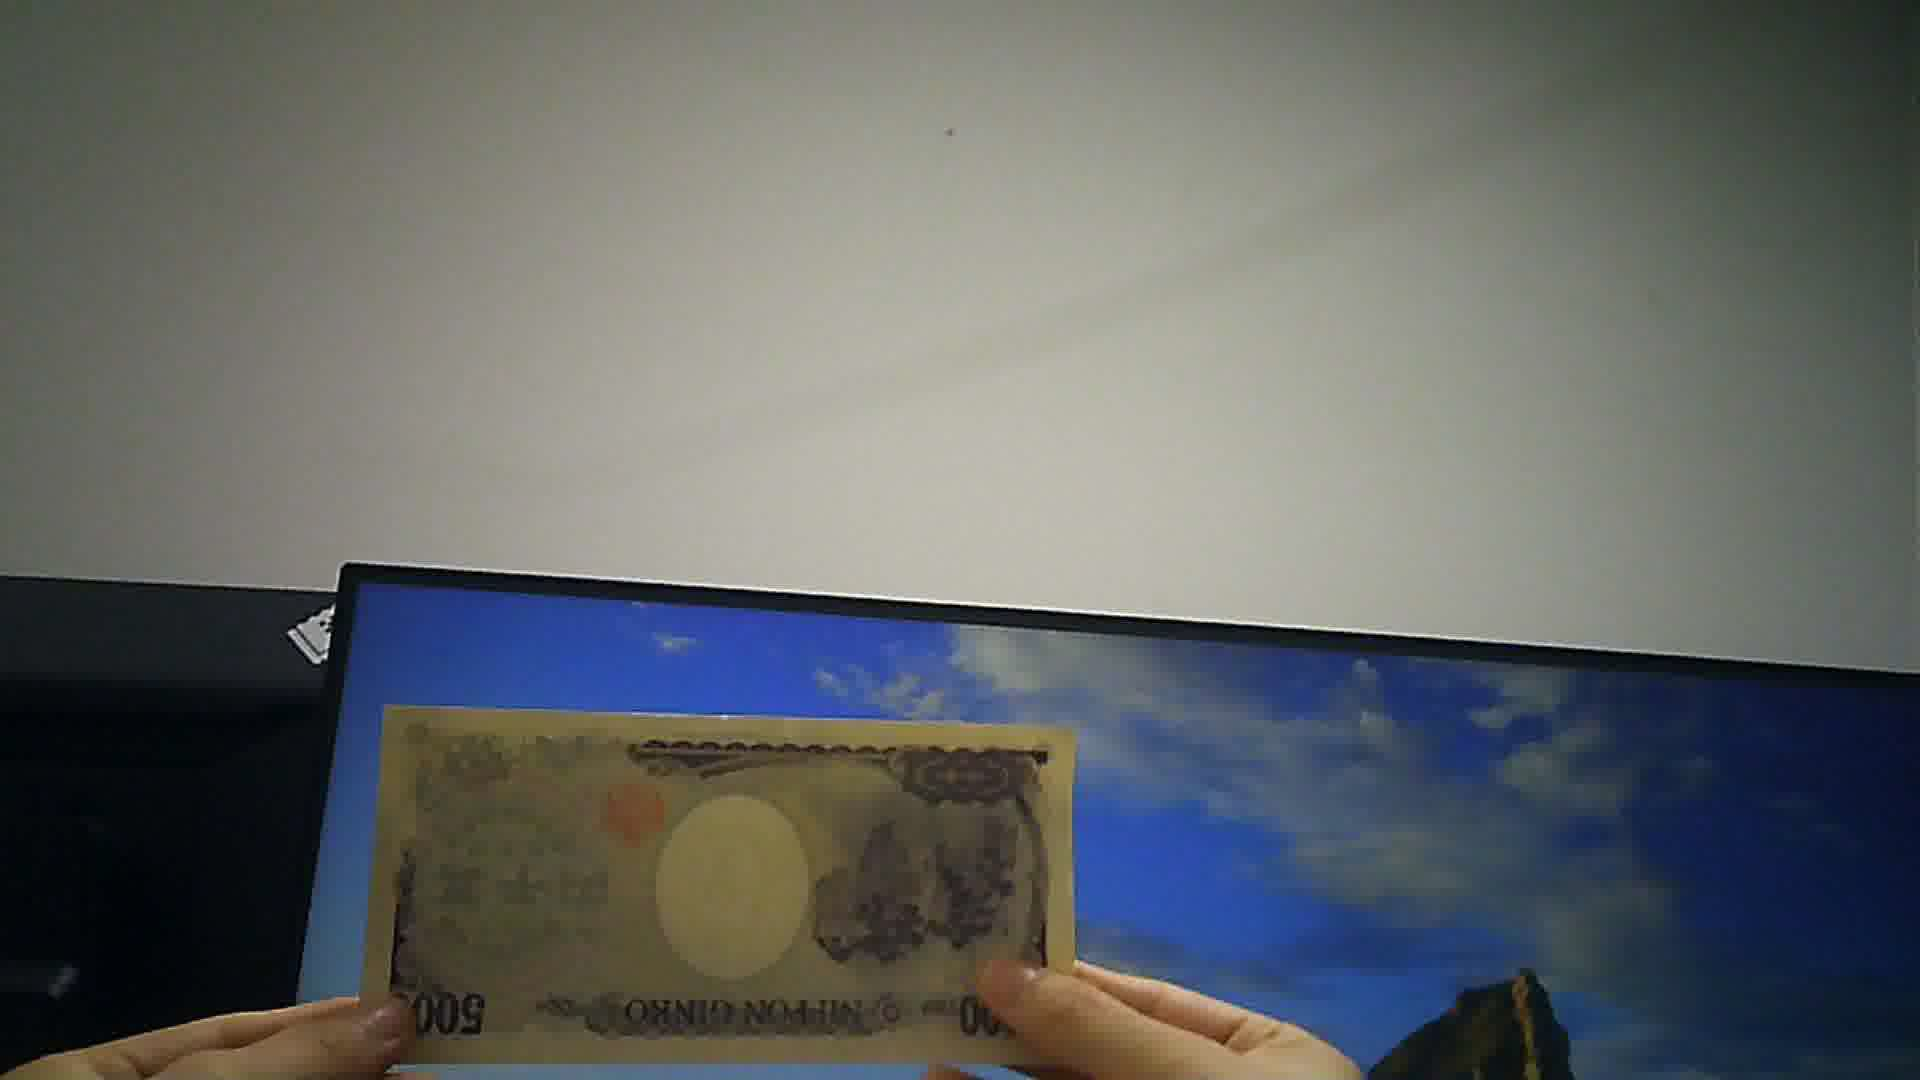5,000 Yen: (360, 686, 1084, 1079)
